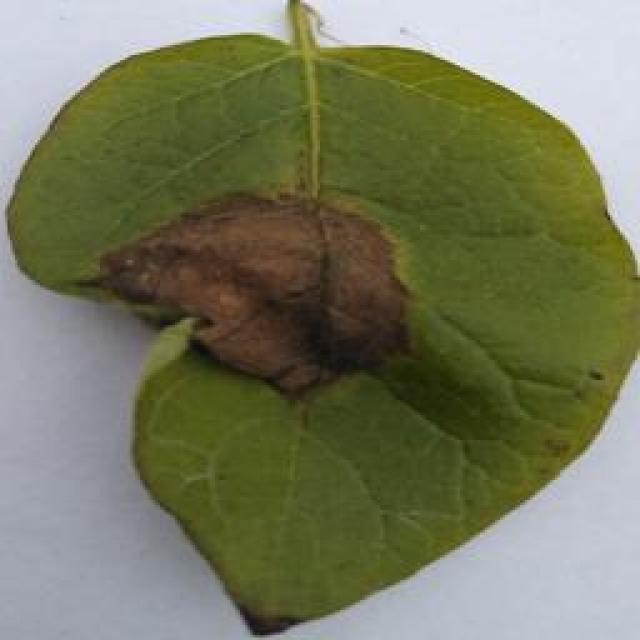Potato_Late_Blight: (5, 12, 627, 640)
